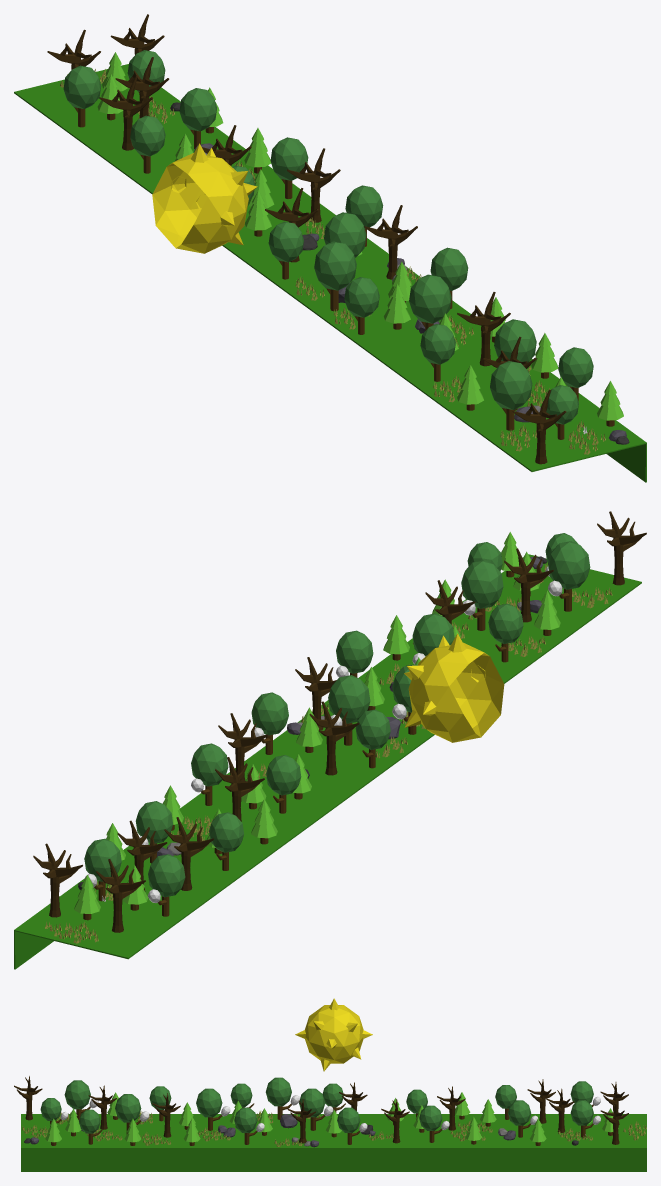
File: Background.fbx
3 views of the same model, one above another, from view 1: azimuth 30°, elevation 25°; view 2: azimuth 150°, elevation 25°; view 3: azimuth 270°, elevation 25° (orthographic). The views are drawn at different scales.
Visible parts, largest first — view 1: Cubo, Cone, Esfera icosaédrica.029, Esfera icosaédrica.024, Esfera icosaédrica.018, Esfera icosaédrica.021, Esfera icosaédrica.014, Esfera icosaédrica.009, Esfera icosaédrica, Esfera icosaédrica.005, Esfera icosaédrica.015, Esfera icosaédrica.004 (+17 smaller); view 2: Cubo, Cone, Esfera icosaédrica.021, Esfera icosaédrica.024, Esfera icosaédrica, Esfera icosaédrica.015, Esfera icosaédrica.014, Esfera icosaédrica.004, Esfera icosaédrica.018, Esfera icosaédrica.005, Esfera icosaédrica.009, Esfera icosaédrica.011 (+15 smaller); view 3: Cubo, Cone, Esfera icosaédrica.029, Esfera icosaédrica.018, Esfera icosaédrica.024, Esfera icosaédrica.021, Esfera icosaédrica, Esfera icosaédrica.005, Esfera icosaédrica.004, Esfera icosaédrica.015, Esfera icosaédrica.009, Esfera icosaédrica.011 (+19 smaller).
Boxes of the visible parts, <box> form: Cubo: <box>14,64,646,482</box>; Cone: <box>152,143,257,253</box>; Esfera icosaédrica.029: <box>314,241,356,290</box>; Esfera icosaédrica.024: <box>490,361,532,409</box>; Esfera icosaédrica.018: <box>409,274,451,323</box>; Esfera icosaédrica.021: <box>494,319,536,362</box>; Esfera icosaédrica.014: <box>63,65,101,108</box>; Esfera icosaédrica.009: <box>179,88,216,131</box>; Esfera icosaédrica: <box>324,212,366,257</box>; Esfera icosaédrica.005: <box>270,137,308,180</box>; Esfera icosaédrica.015: <box>430,247,468,291</box>; Esfera icosaédrica.004: <box>345,185,383,228</box>; Cubo: <box>14,554,641,969</box>; Cone: <box>404,633,504,742</box>; Esfera icosaédrica.021: <box>461,560,503,608</box>; Esfera icosaédrica.024: <box>548,541,590,589</box>; Esfera icosaédrica: <box>328,675,370,723</box>; Esfera icosaédrica.015: <box>336,630,373,673</box>; Esfera icosaédrica.014: <box>148,854,185,897</box>; Esfera icosaédrica.004: <box>251,692,288,735</box>; Esfera icosaédrica.018: <box>412,613,454,656</box>; Esfera icosaédrica.005: <box>191,743,228,786</box>; Esfera icosaédrica.009: <box>135,801,173,843</box>; Esfera icosaédrica.011: <box>84,838,121,881</box>; Cubo: <box>21,1114,646,1171</box>; Cone: <box>295,998,372,1071</box>; Esfera icosaédrica.029: <box>265,1077,291,1106</box>; Esfera icosaédrica.018: <box>196,1088,222,1117</box>; Esfera icosaédrica.024: <box>64,1080,90,1109</box>; Esfera icosaédrica.021: <box>115,1094,141,1122</box>; Esfera icosaédrica: <box>299,1088,325,1117</box>; Esfera icosaédrica.005: <box>419,1105,442,1130</box>; Esfera icosaédrica.004: <box>337,1107,360,1132</box>; Esfera icosaédrica.015: <box>234,1107,257,1132</box>; Esfera icosaédrica.009: <box>508,1100,531,1125</box>; Esfera icosaédrica.011: <box>570,1100,593,1125</box>.
Bounding box in the file's own units: 1183 × 988 × 4796.
